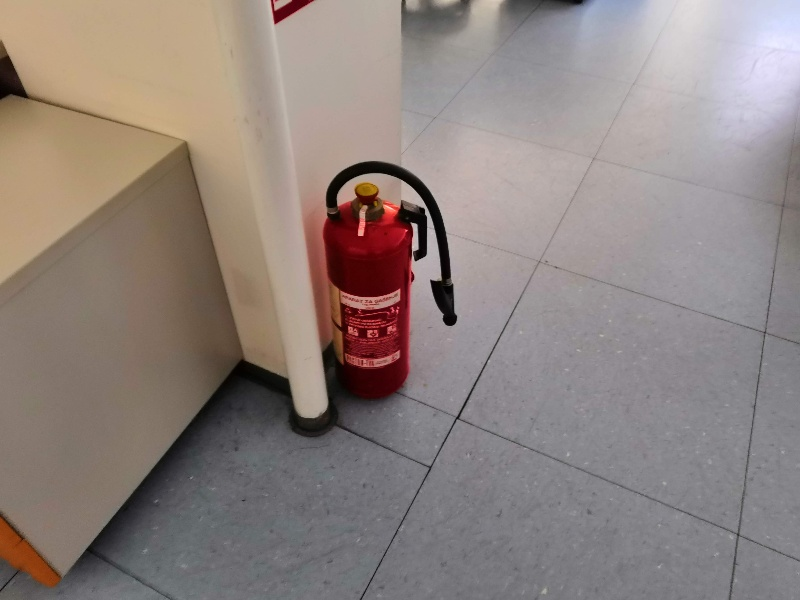vataparat: (324, 161, 456, 398)
